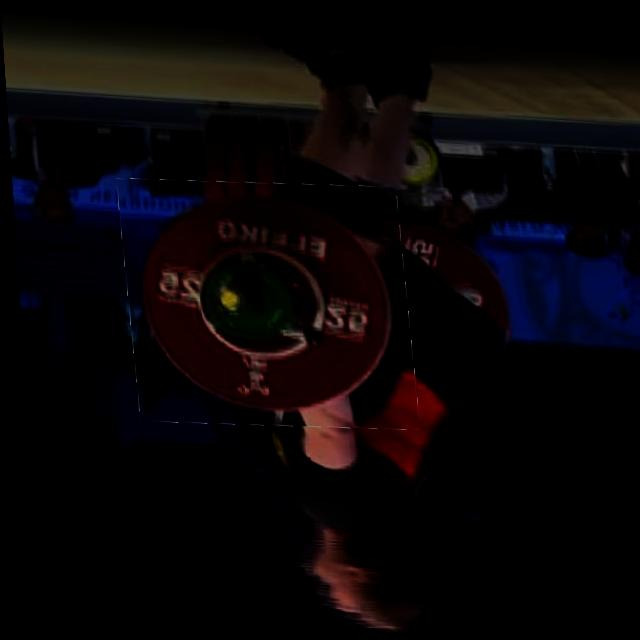barbell: (117, 170, 413, 432)
